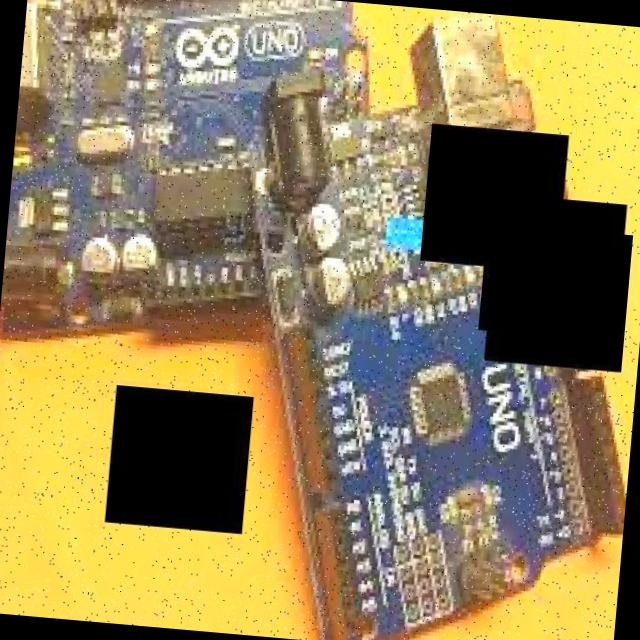arduino: (205, 104, 640, 640)
